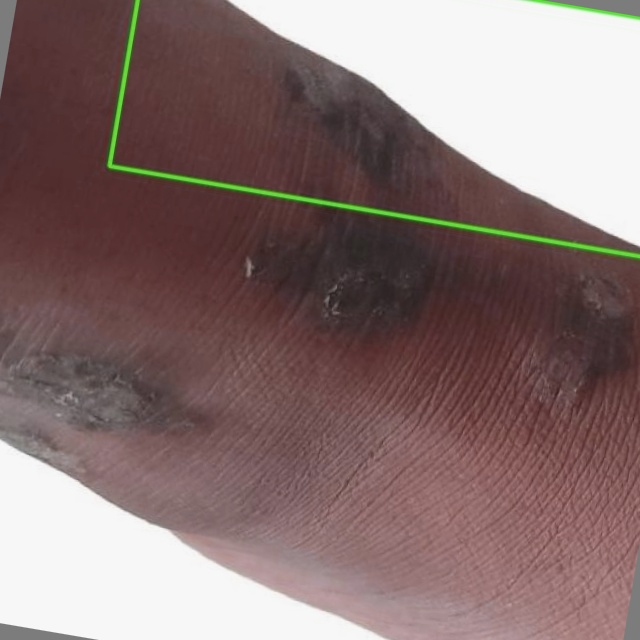Contact Dermatitis: (109, 0, 639, 256)
